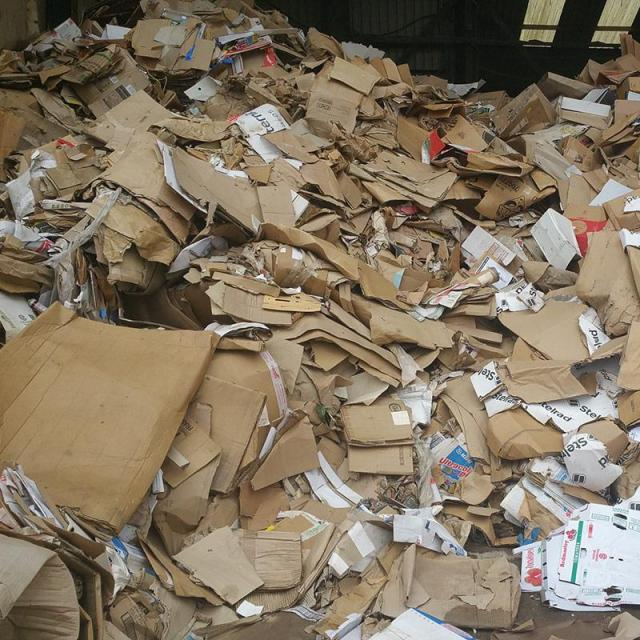cardboard: (1, 1, 640, 640), (2, 305, 233, 531), (363, 294, 601, 494), (94, 104, 307, 279), (440, 116, 640, 279)
